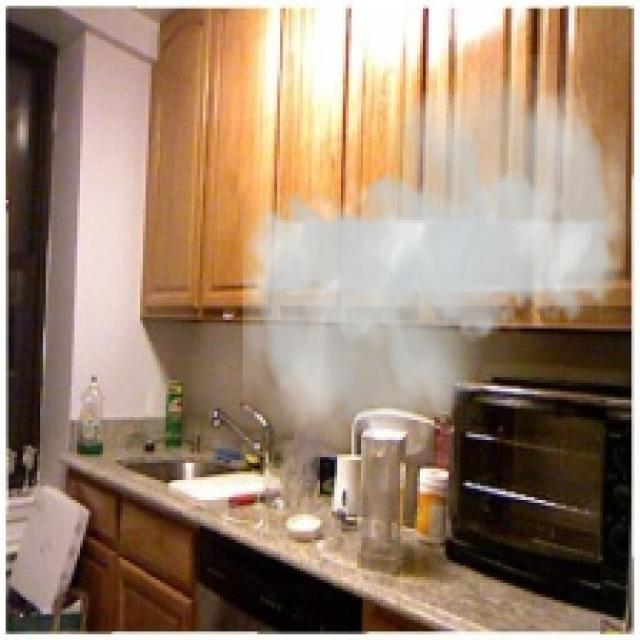Smoke: (243, 54, 626, 457)
